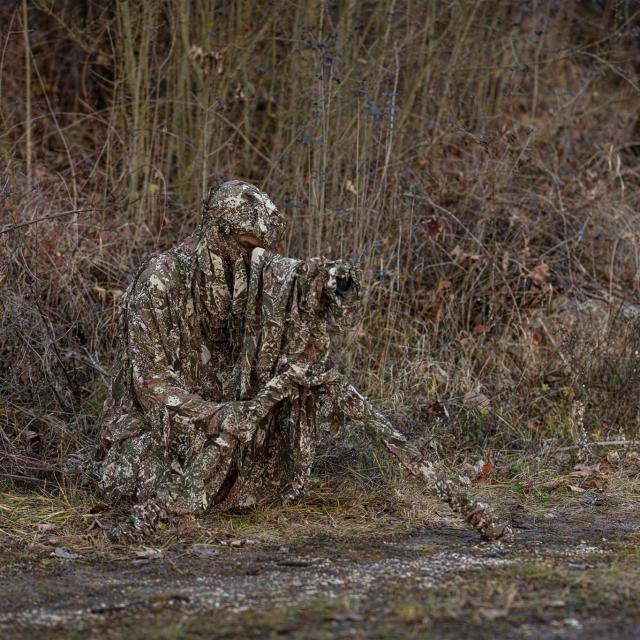Human: (96, 177, 511, 542)
